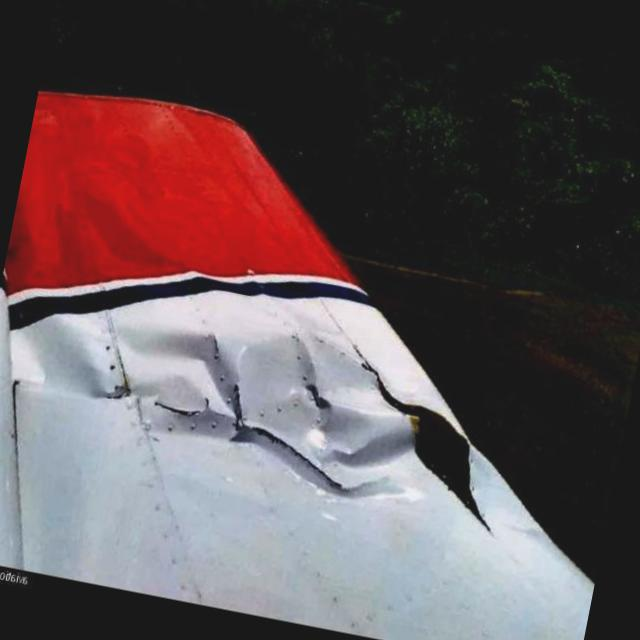crack: (271, 435, 343, 486), (163, 390, 210, 430), (218, 374, 250, 426), (200, 332, 226, 362)
